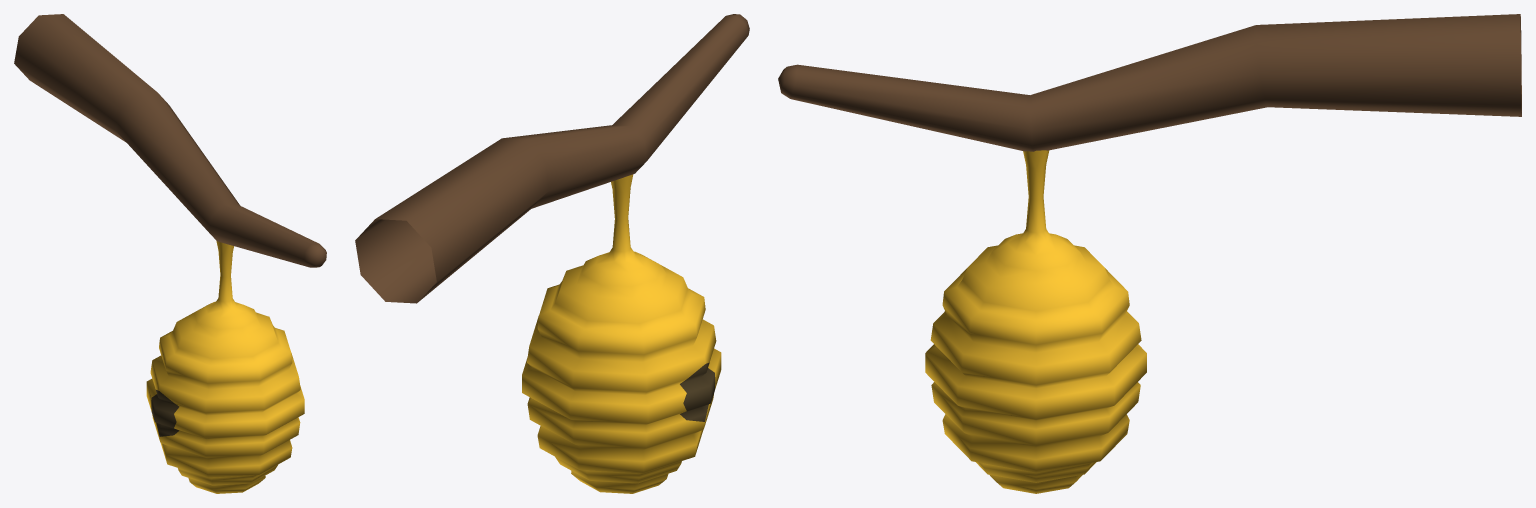
The model's file is beehive.fbx.
The picture shows the model from 3 angles, left to right: view 1: azimuth 30°, elevation 25°; view 2: azimuth 150°, elevation 25°; view 3: azimuth 270°, elevation 25°; orthographic projection. The views are drawn at different scales.
Parts seen in each view (by area): view 1: Cylinder; view 2: Cylinder; view 3: Cylinder.
Boxes of the visible parts, x1=… form: Cylinder: x1=14, y1=14, x2=326, y2=493; Cylinder: x1=355, y1=14, x2=749, y2=493; Cylinder: x1=778, y1=14, x2=1521, y2=493.
Size of the model in its own units: 38.71 by 88.72 by 130.
